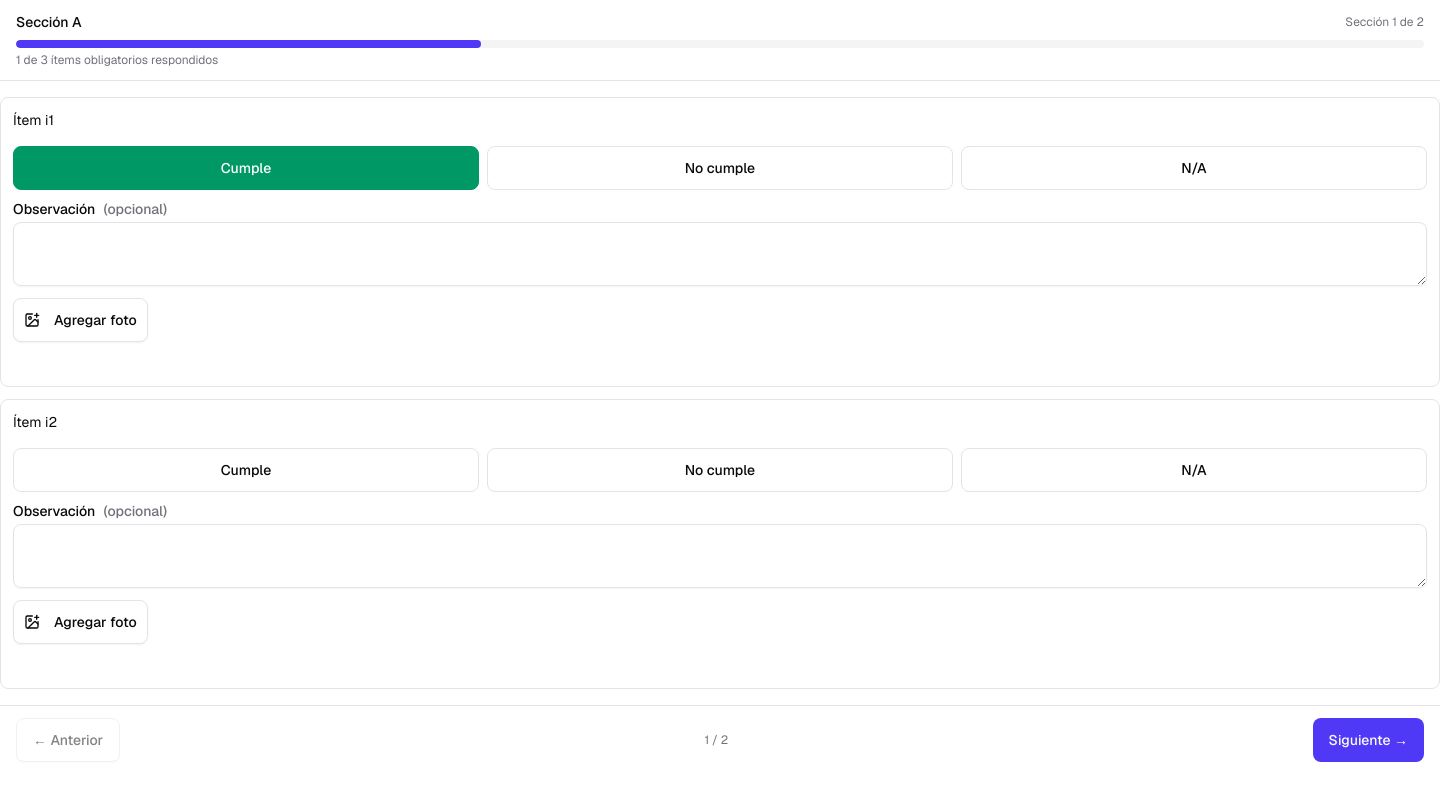
Test case: EjecucionRunner › última sección: member ve "pedile al titular"
Click the button "Siguiente →".
click(1368, 740)  # box [1313,718,1424,762]
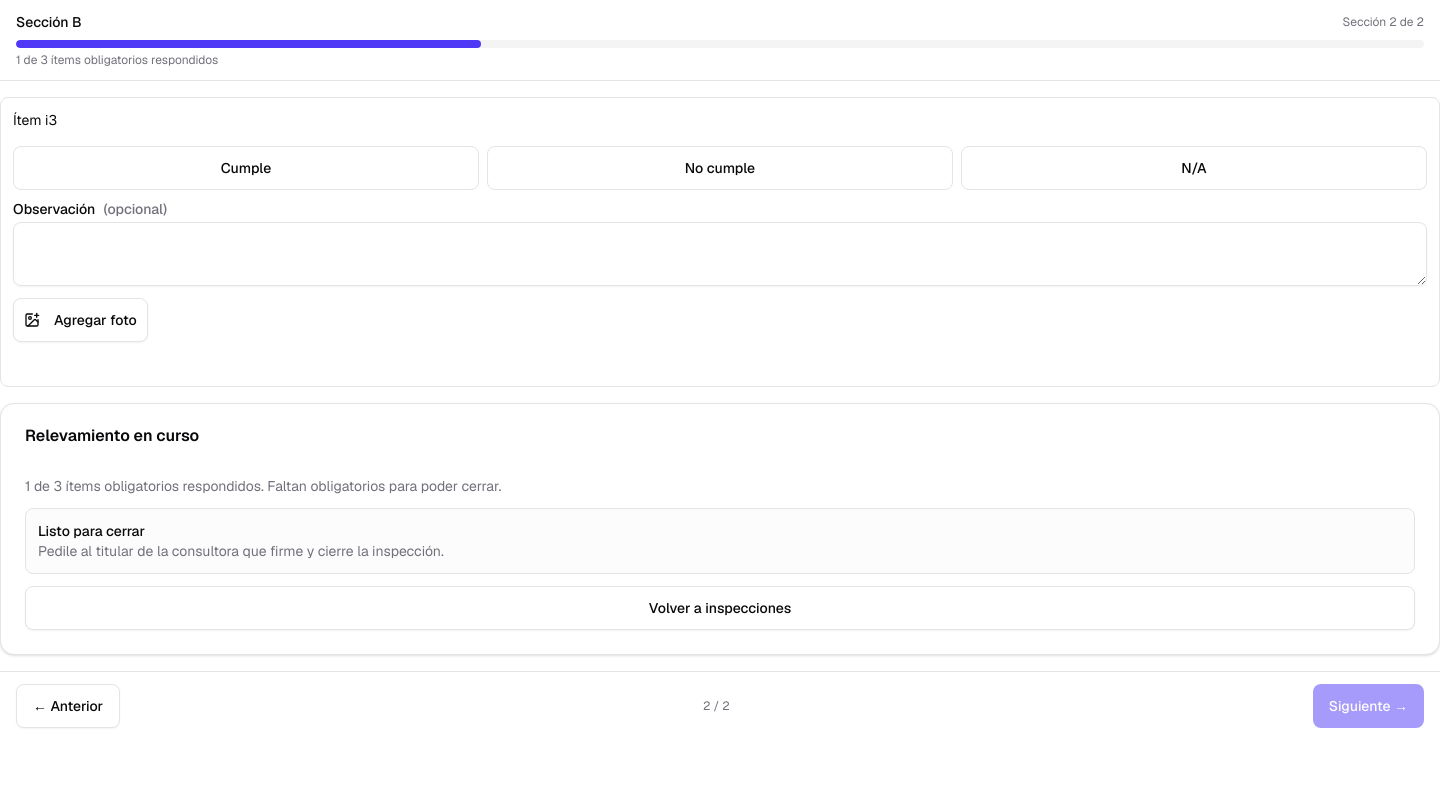
Now the text "Pedile al titular" is shown, box [38,542,444,560]
